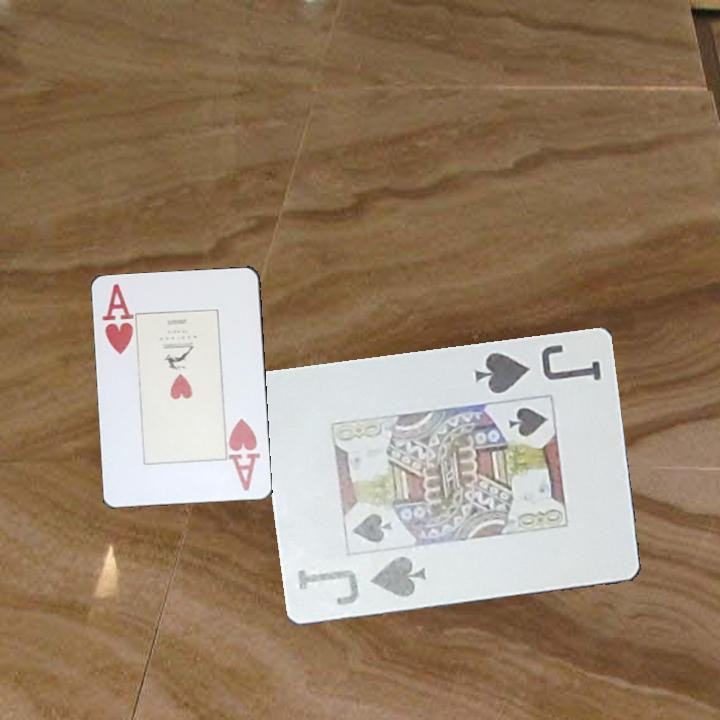Ah: (226, 415, 264, 494), (98, 280, 136, 357)
Js: (291, 553, 428, 610), (470, 341, 604, 397)
